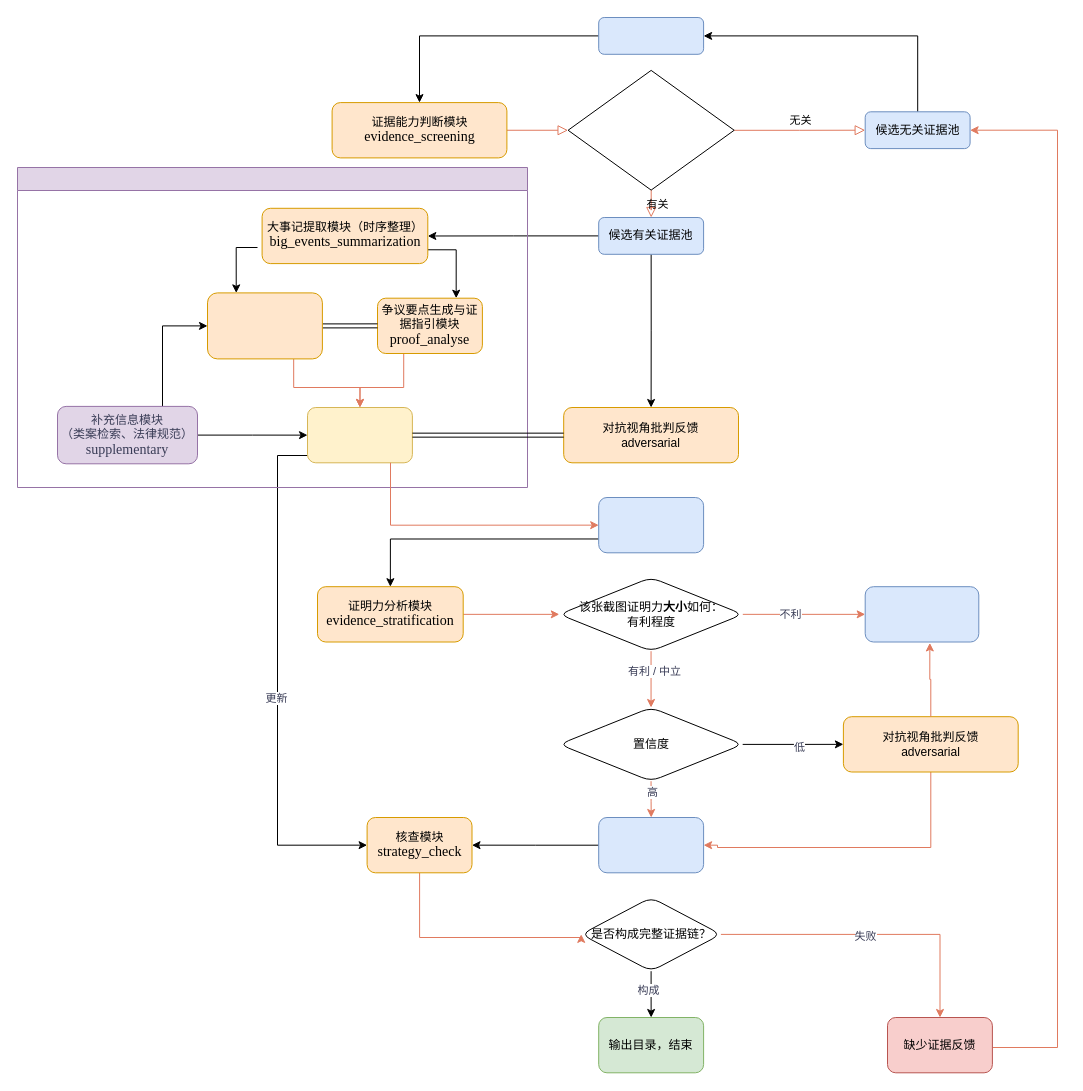
Some shapes in this 1083 by 1091 pixel diagram are drawn without their labels. The shapes that lost their labels are listed below. From the top down, each one's box as (x1, y1, x2, y2) in pixels, then its label:
(598, 16, 704, 54): 聊天截图
(567, 69, 734, 190): 该张聊天截图是否与案件 有关
(206, 292, 322, 359): 案由构建模块（请求权基础准备） claim_planner
(16, 166, 528, 488): 核心模块：目光在案件事实与法律规范之间来回往复
(306, 406, 412, 463): 庭审策略 【规划者】 case_strategy
(598, 496, 704, 553): 初筛证据池
(864, 586, 979, 642): 不利证据池
(598, 816, 704, 873): 有利&中立证据池
